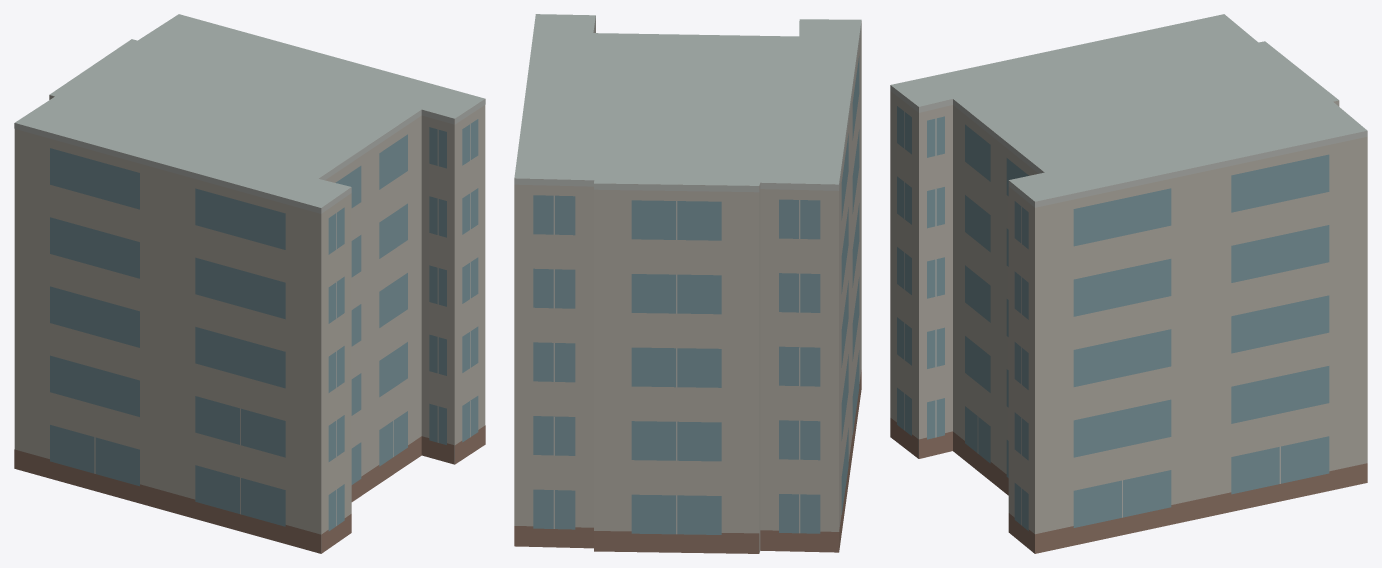
File: survey-upis-32963734.glb
3 renders of one model, left to right at view 1: azimuth 30°, elevation 25°; view 2: azimuth 150°, elevation 25°; view 3: azimuth 270°, elevation 25°, orthographic. The views are drawn at different scales.
Visible parts, largest first — view 1: survey-upis-32963734.tmp; view 2: survey-upis-32963734.tmp; view 3: survey-upis-32963734.tmp.
Part boxes in pixels (x1,y1,x2,y2): survey-upis-32963734.tmp: (14,14,485,553); survey-upis-32963734.tmp: (514,14,861,553); survey-upis-32963734.tmp: (890,14,1367,553).
Size of the model in its own units: 16.31 by 14.25 by 17.52.
